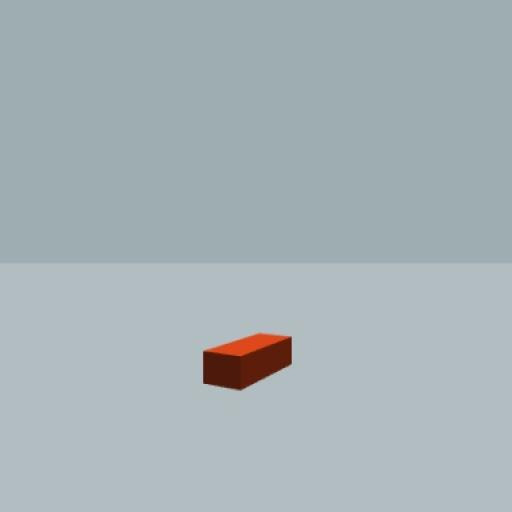debris_container: (203, 330, 293, 394)
